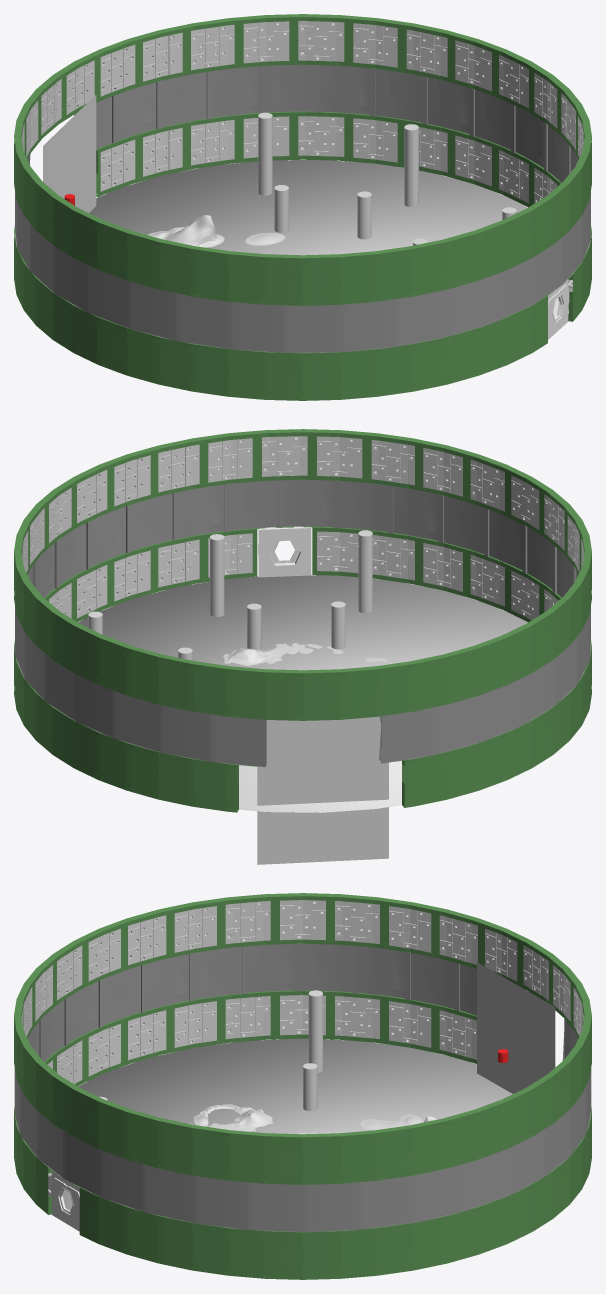
The model's file is Environment_Blockout_1.fbx.
The picture shows the model from 3 angles, top to bottom: view 1: azimuth 30°, elevation 25°; view 2: azimuth 150°, elevation 25°; view 3: azimuth 270°, elevation 25°; orthographic projection.
Parts seen in each view (by area): view 1: Room_Walls, Ground.002, Refractor Shrine, Small_Outer_Refractor_Houses, Ground.001, Small_Inner_Refractor_Houses, Entrance; view 2: Room_Walls, Ground.002, Refractor Shrine, Small_Outer_Refractor_Houses, Entrance, Small_Inner_Refractor_Houses, Ground.001; view 3: Room_Walls, Ground.002, Refractor Shrine, Ground.001, Small_Outer_Refractor_Houses, Entrance, Small_Inner_Refractor_Houses.
Part boxes in pixels (x1,y1,x2,y2): Room_Walls: (14,14,591,400); Ground.002: (89,160,558,317); Refractor Shrine: (43,95,96,212); Small_Outer_Refractor_Houses: (258,112,516,219); Ground.001: (148,215,285,247); Small_Inner_Refractor_Houses: (274,185,427,245); Entrance: (548,279,569,339); Room_Walls: (14,429,591,812); Ground.002: (78,575,527,812); Refractor Shrine: (257,716,388,864); Small_Outer_Refractor_Houses: (88,530,372,634); Entrance: (258,526,311,577); Small_Inner_Refractor_Houses: (178,601,345,660); Ground.001: (223,643,392,665); Room_Walls: (14,893,591,1279); Ground.002: (62,1038,512,1210); Refractor Shrine: (477,962,555,1093); Ground.001: (194,1104,437,1134); Small_Outer_Refractor_Houses: (99,990,322,1100); Entrance: (51,1171,79,1231); Small_Inner_Refractor_Houses: (189,1063,317,1124).
Bounding box in the file's own units: 11022 × 4241 × 11023.
